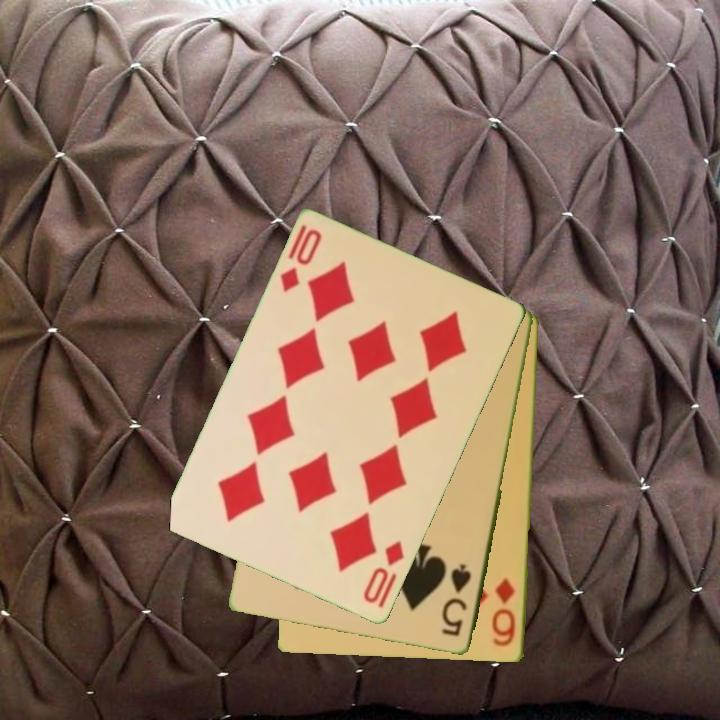10d: (276, 222, 325, 296), (359, 537, 408, 607)
5s: (438, 561, 475, 640)
6d: (488, 574, 519, 650)
